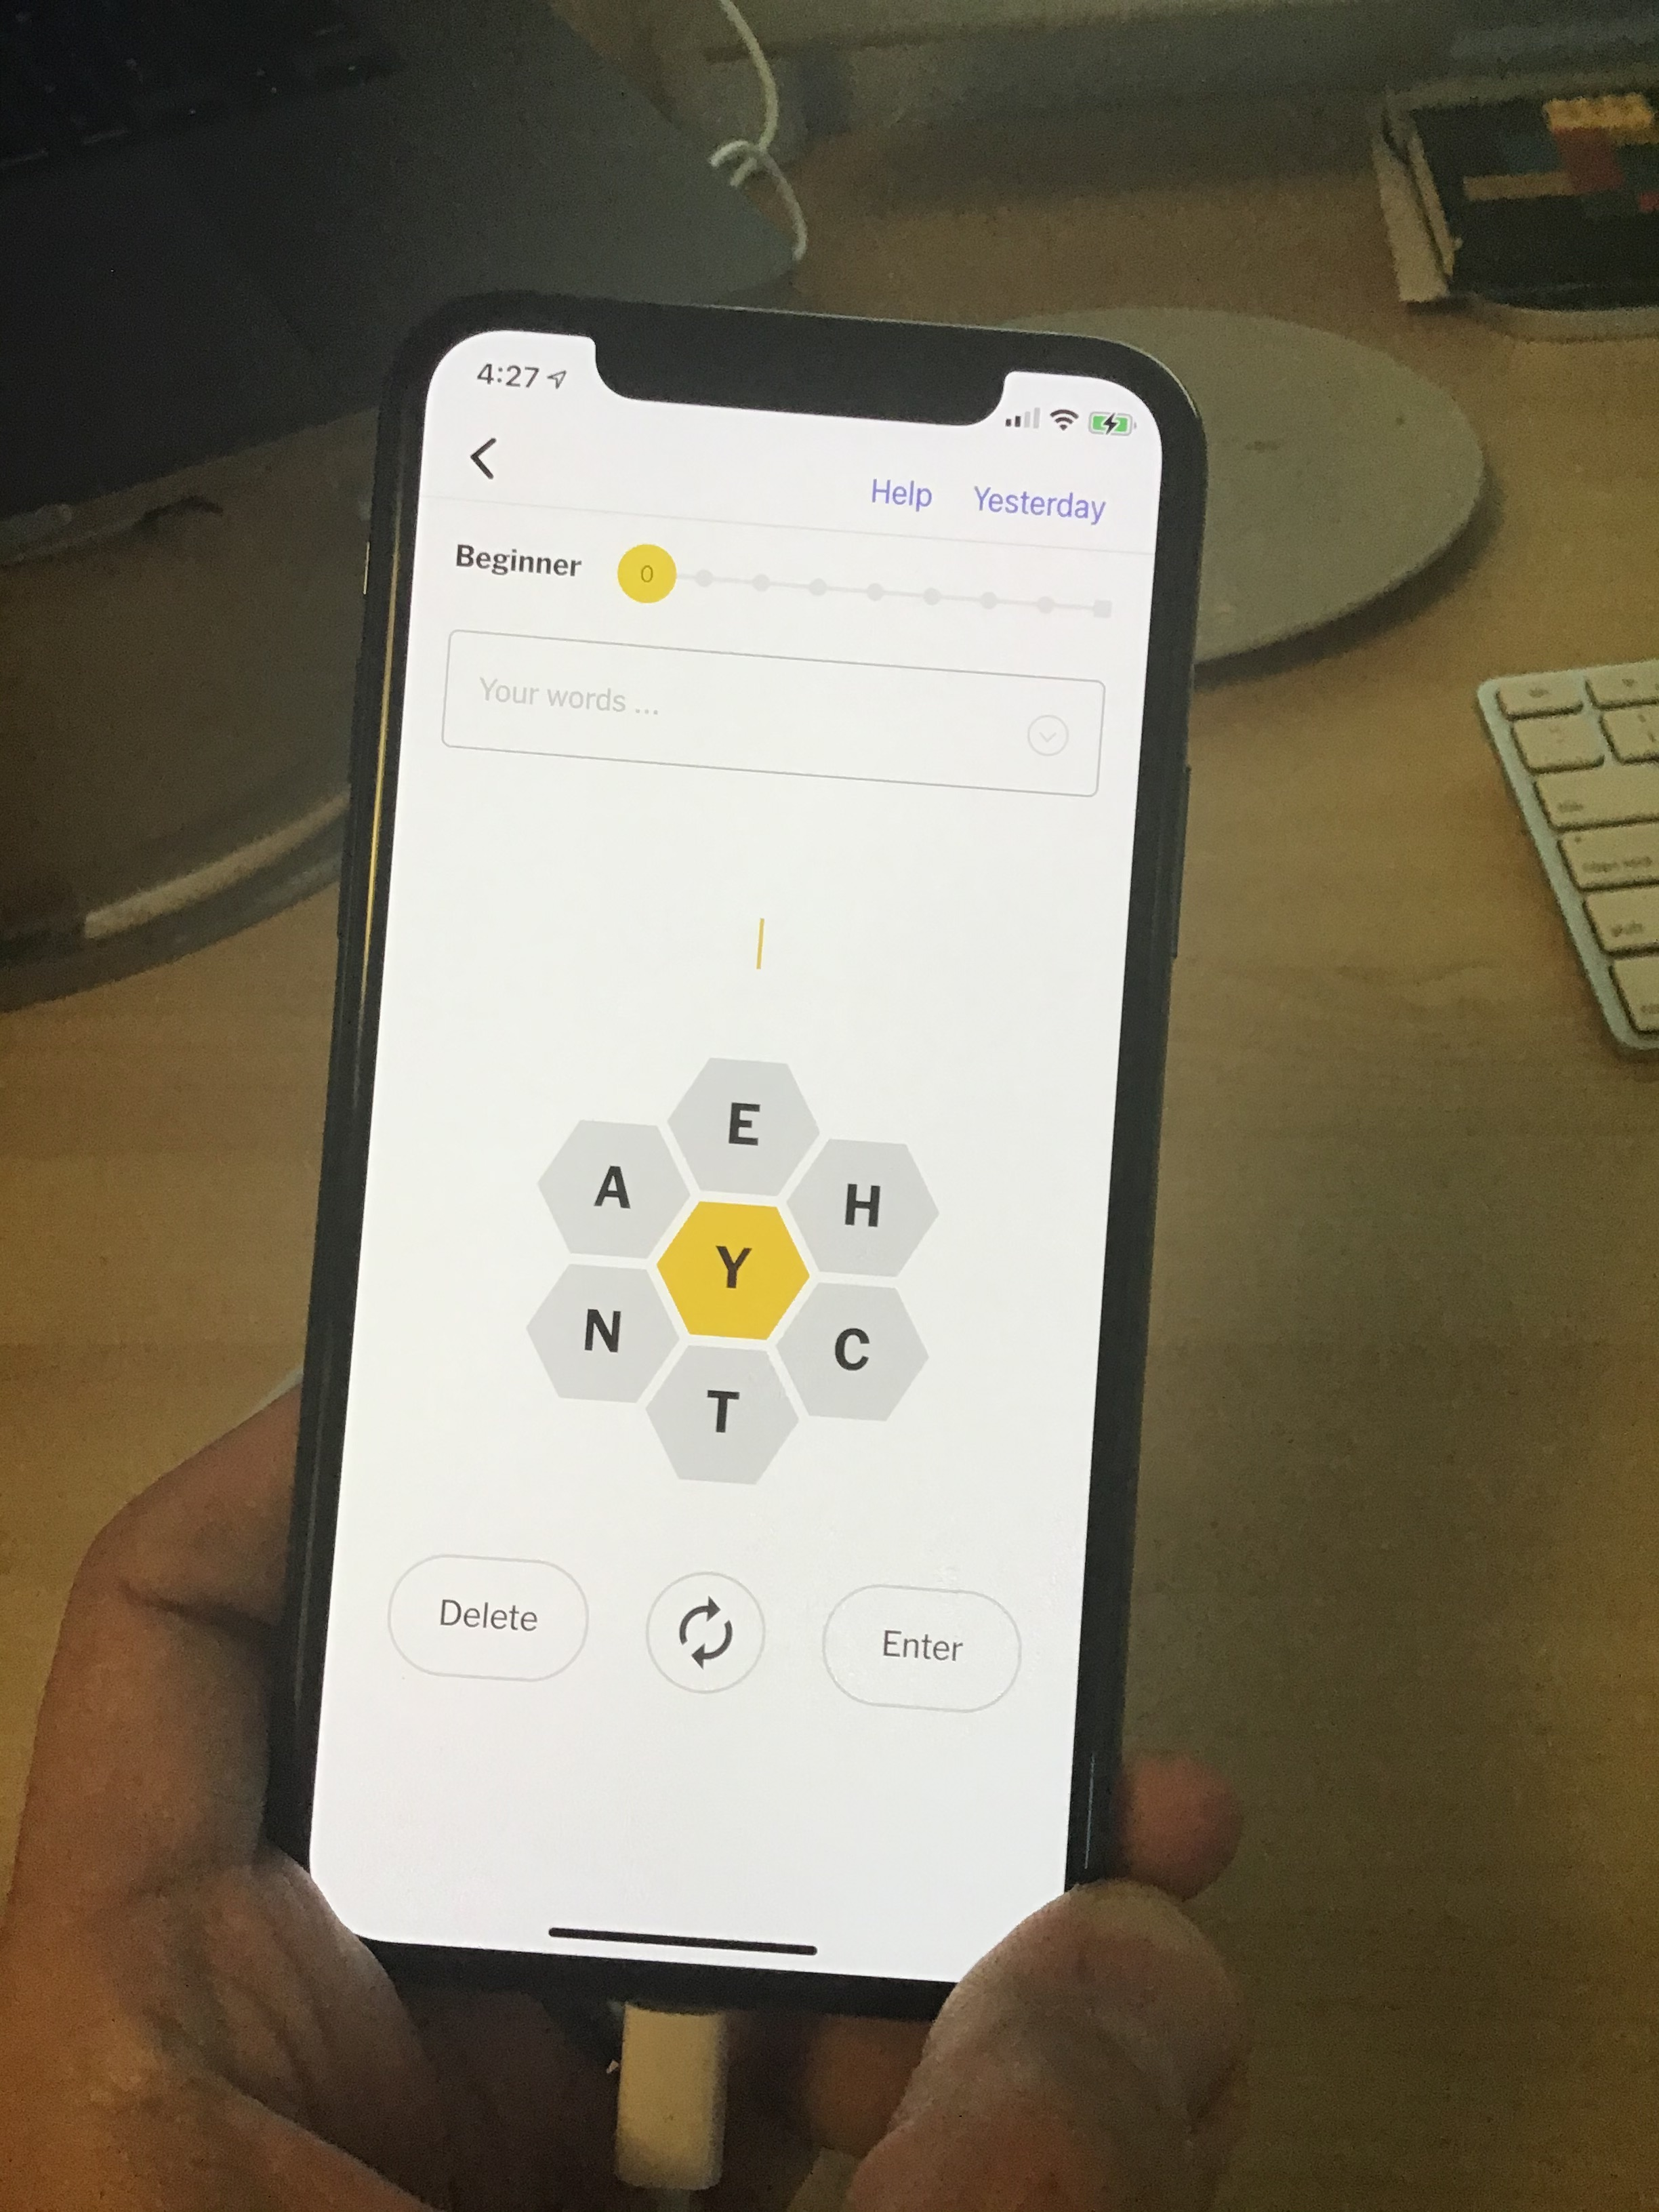Board: (491, 1015, 983, 1534)
